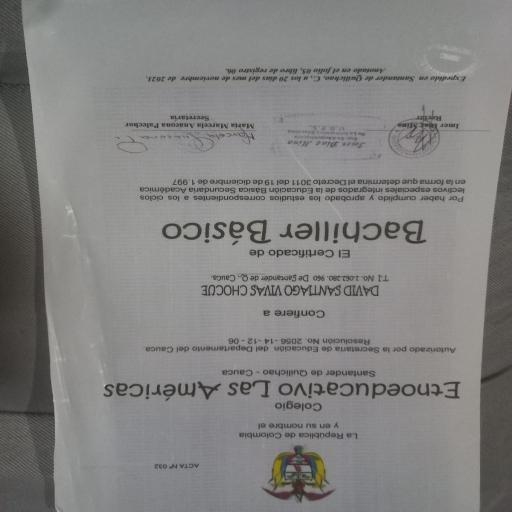bachillerato: (144, 212, 434, 253)
diploma: (23, 0, 509, 512)
escudo: (245, 441, 347, 512)
firma: (101, 106, 273, 162)
institucion: (94, 374, 466, 407)
nombre: (181, 278, 390, 304)
